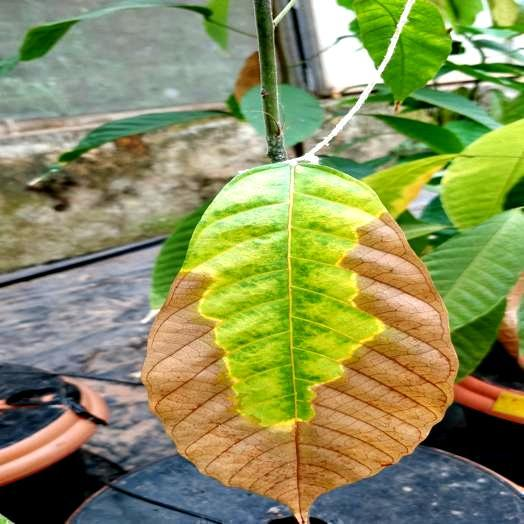Potassium: (142, 160, 457, 523)
